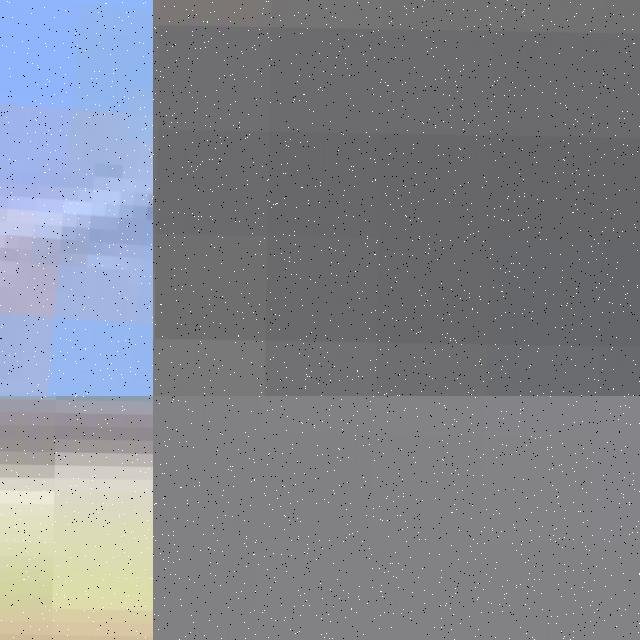drone: (0, 0, 153, 396)
